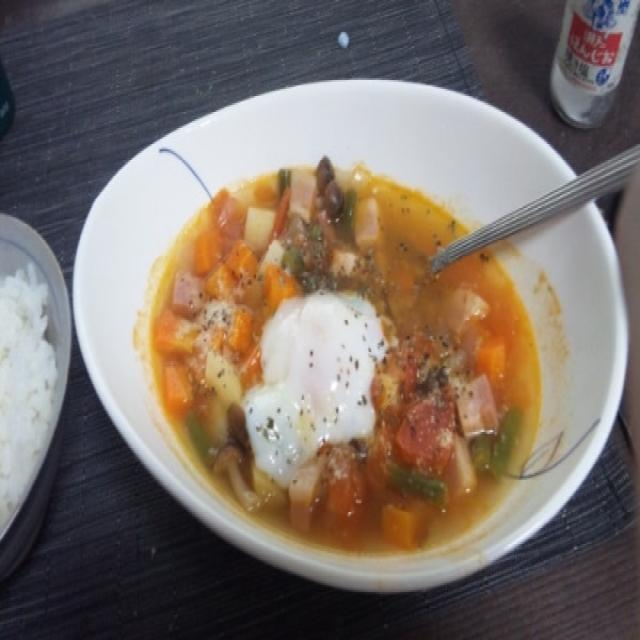汉堡快餐: (219, 40, 640, 610), (83, 0, 410, 408)
